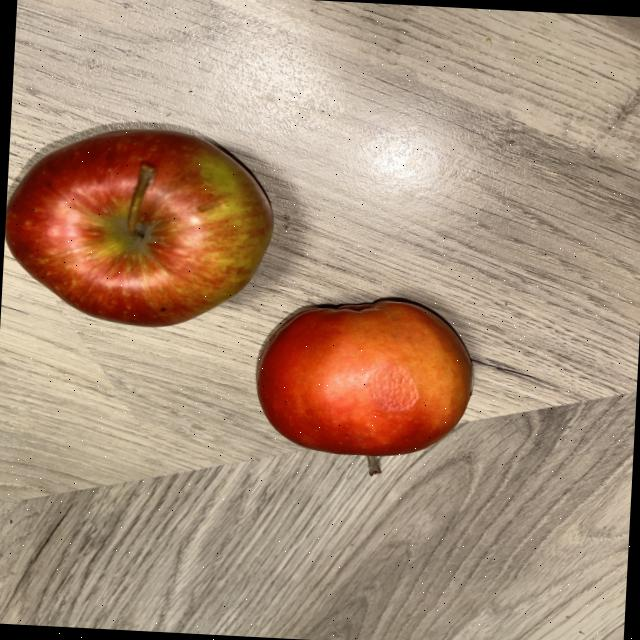apple: (5, 129, 272, 326), (256, 299, 471, 474)
